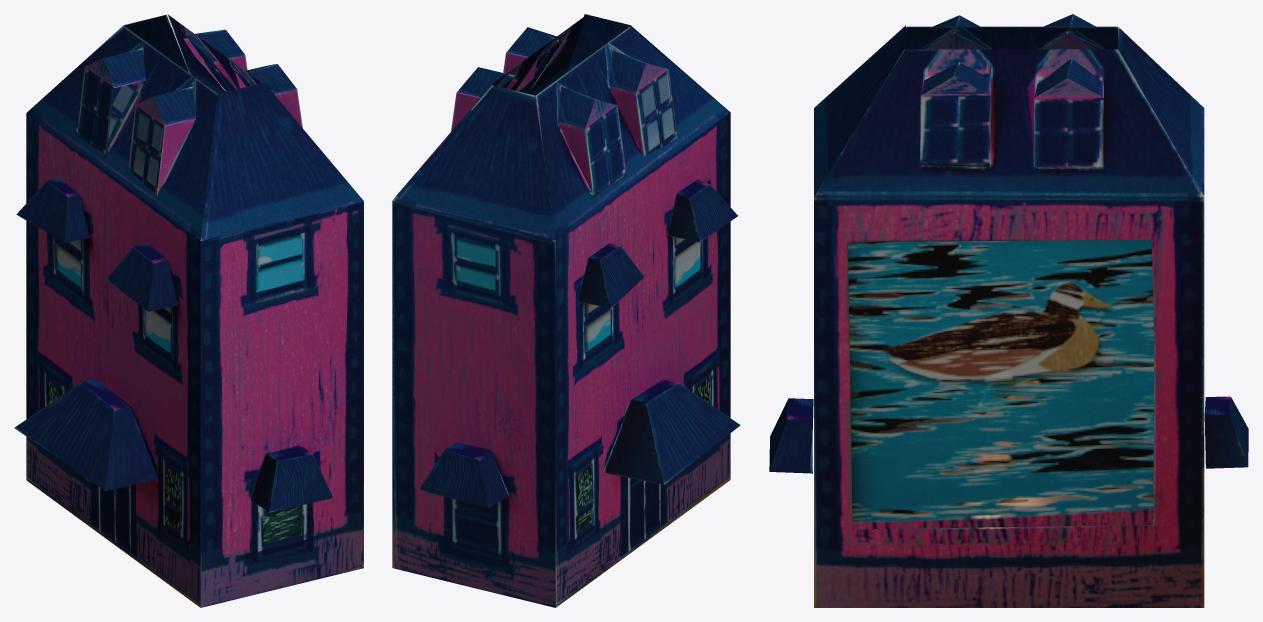
The model's file is casa-pato-noche-1-0.glb.
The picture shows the model from 3 angles, left to right: view 1: azimuth 30°, elevation 25°; view 2: azimuth 150°, elevation 25°; view 3: azimuth 270°, elevation 25°; orthographic projection. The views are drawn at different scales.
Visible parts, largest first — view 1: Cube; view 2: Cube; view 3: Cube.
Part boxes in pixels (x1,y1,x2,y2): Cube: (14, 14, 363, 607); Cube: (392, 14, 740, 607); Cube: (769, 14, 1248, 607).
Size of the model in its own units: 0.3698 by 0.7425 by 0.6135.
Materials: 1 (1 with a texture image).
